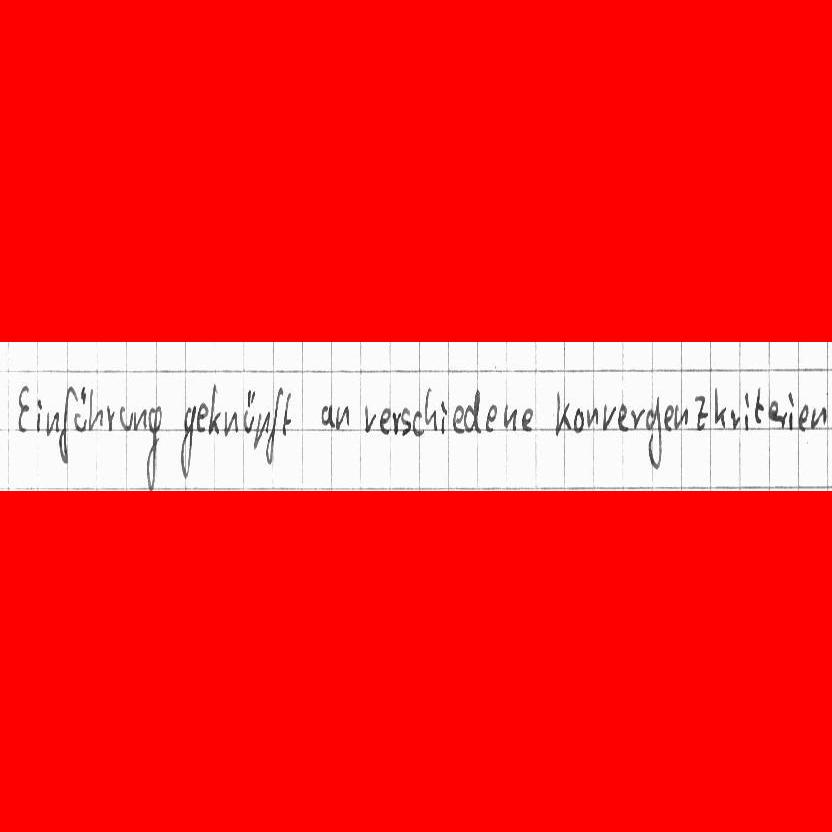Char: (57, 384, 78, 467), (144, 400, 161, 489), (269, 383, 287, 463), (179, 401, 194, 483), (646, 406, 661, 470), (553, 389, 571, 438), (15, 383, 31, 433), (253, 411, 271, 452), (88, 387, 104, 429), (206, 384, 219, 434), (466, 389, 481, 432), (75, 386, 88, 431), (243, 387, 255, 433), (424, 386, 435, 434), (695, 394, 709, 431), (281, 392, 293, 435), (754, 385, 766, 426), (784, 391, 796, 431), (319, 401, 336, 429), (223, 408, 238, 438), (396, 407, 411, 437), (45, 408, 60, 437), (767, 398, 782, 427), (452, 403, 466, 434), (712, 391, 723, 429), (195, 401, 208, 433), (381, 407, 395, 436), (503, 404, 518, 431), (363, 406, 377, 434), (813, 405, 830, 428), (742, 391, 752, 430), (485, 404, 498, 432), (338, 405, 352, 431), (119, 406, 134, 430), (617, 402, 629, 432), (104, 402, 116, 431), (520, 408, 535, 431), (133, 408, 148, 431), (34, 395, 43, 433), (437, 402, 448, 433), (411, 410, 423, 438), (588, 405, 602, 429), (603, 405, 617, 429), (630, 407, 645, 429), (572, 407, 585, 432), (797, 405, 809, 431), (679, 405, 691, 430), (664, 406, 676, 430), (726, 407, 739, 429)
